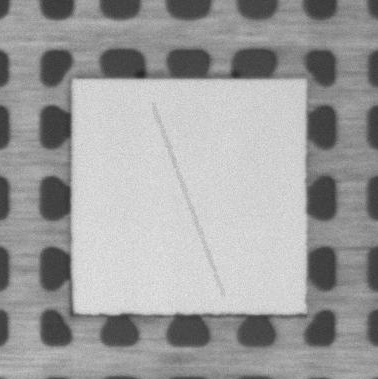DIE_CRACK: (153, 104, 222, 295)
